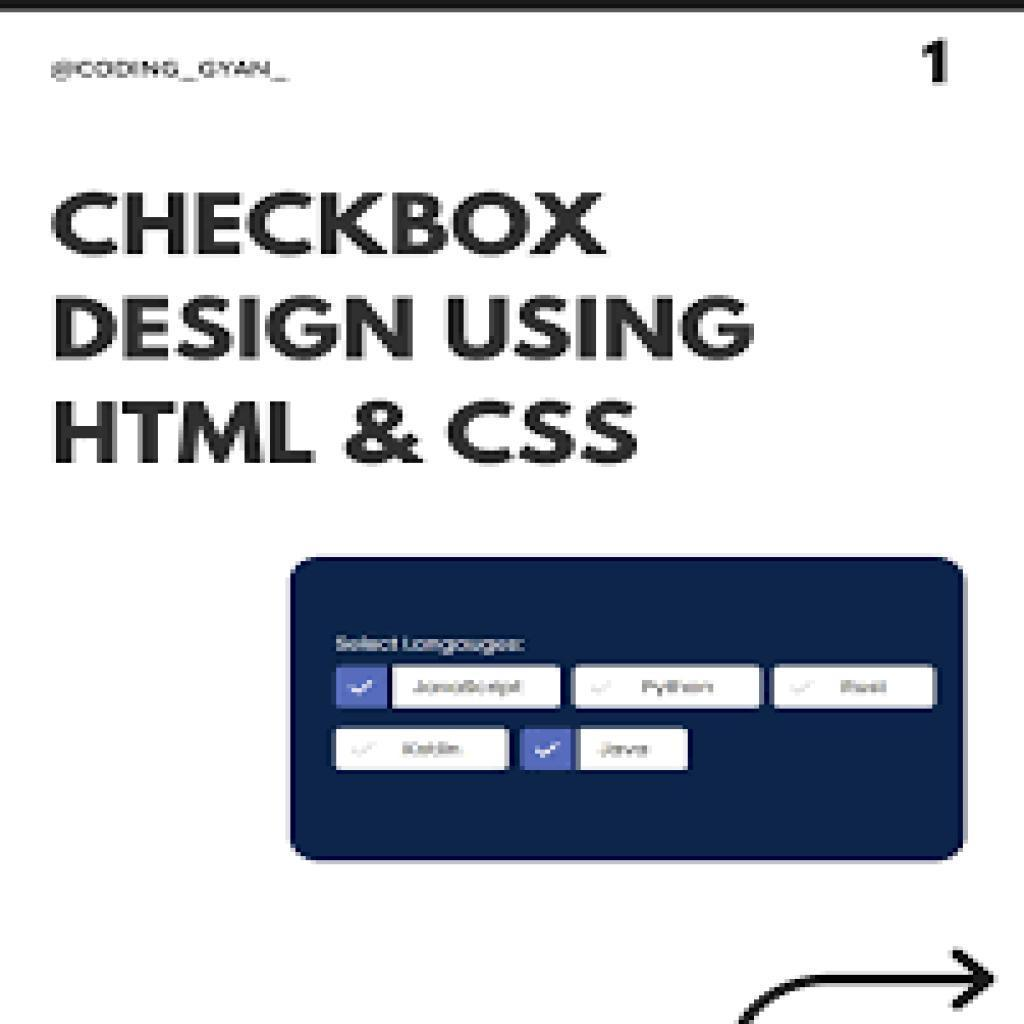checkbox: (521, 728, 571, 770), (337, 667, 388, 706)
input: (575, 664, 763, 709), (395, 664, 563, 709), (337, 731, 513, 771), (772, 667, 937, 707), (578, 728, 689, 769)
